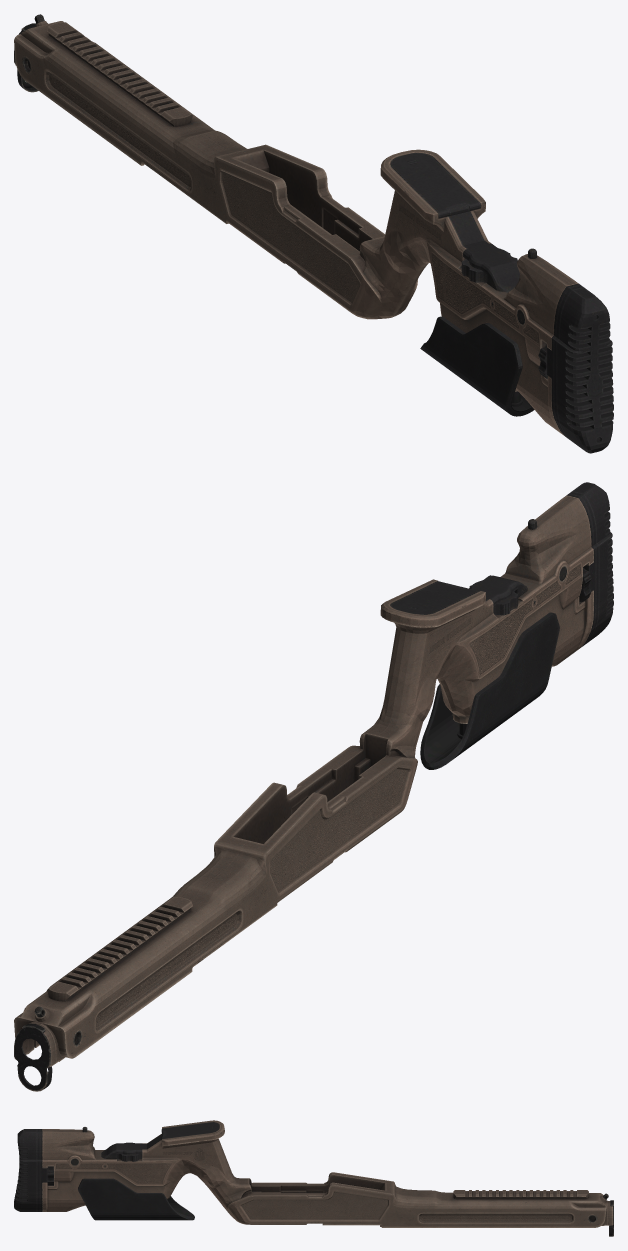
The picture shows the model from 3 angles, top to bottom: view 1: azimuth 30°, elevation 25°; view 2: azimuth 150°, elevation 25°; view 3: azimuth 270°, elevation 25°; orthographic projection. The views are drawn at different scales.
Parts seen in each view (by area): view 1: TW_5addbf175acfc408fb13965b_PZ_Import; view 2: TW_5addbf175acfc408fb13965b_PZ_Import; view 3: TW_5addbf175acfc408fb13965b_PZ_Import.
Part boxes in pixels (x1,y1,x2,y2): TW_5addbf175acfc408fb13965b_PZ_Import: (14, 14, 613, 453); TW_5addbf175acfc408fb13965b_PZ_Import: (14, 482, 613, 1091); TW_5addbf175acfc408fb13965b_PZ_Import: (14, 1120, 613, 1236).
Bounding box in the file's own units: 0.0302 × 0.5134 × 0.1035.
Materials: 1 (1 with a texture image).
